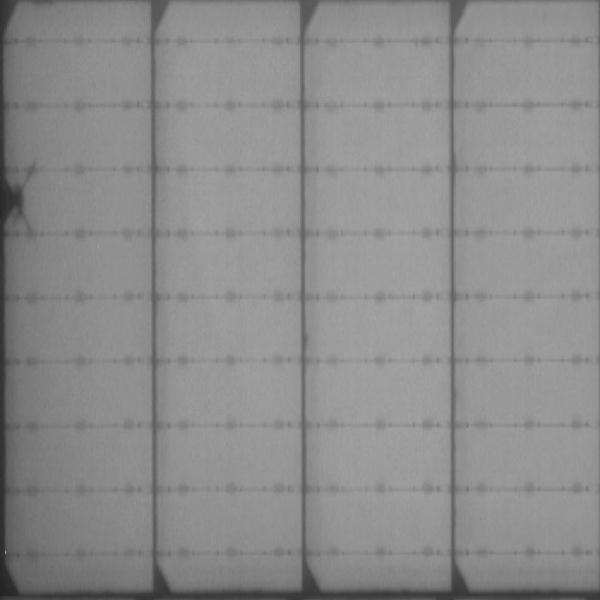broken: (1, 161, 36, 231)
